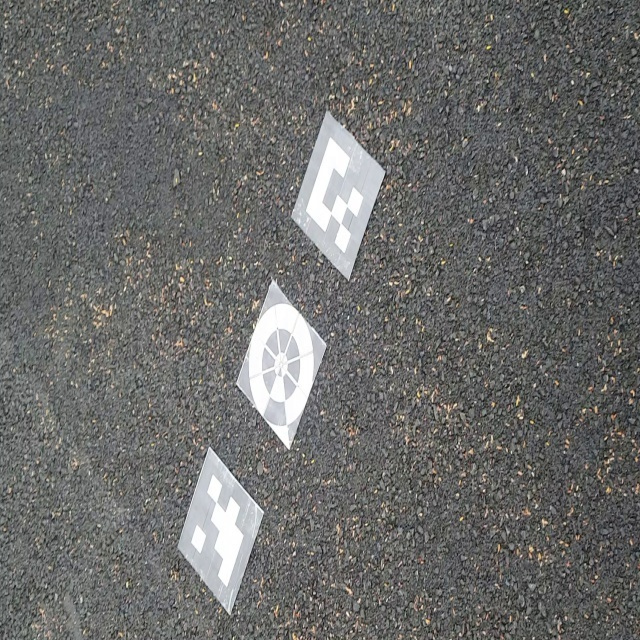landing-zone: (234, 274, 330, 453)
